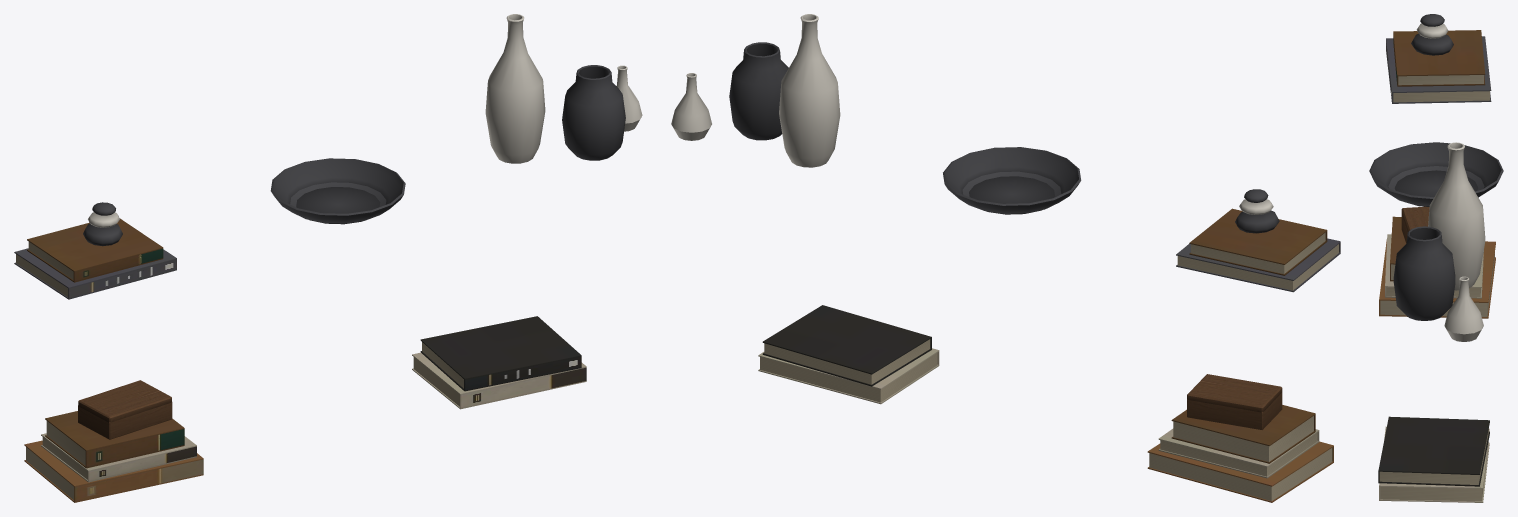
The model's file is decor_a_console_b.gltf.
3 renders of one model, left to right at view 1: azimuth 30°, elevation 25°; view 2: azimuth 150°, elevation 25°; view 3: azimuth 270°, elevation 25°, orthographic. The views are drawn at different scales.
Visible parts, largest first — view 1: DecorAConsoleB_Book07_Spines_NoCollide, DecorAConsoleB_Bowl01_Charcoal_NoCollide, DecorAConsoleB_Vase01_Glaze_NoCollide, DecorAConsoleB_Vase02_Charcoal_NoCollide, DecorAConsoleB_Book02_Spines_NoCollide, DecorAConsoleB_Book05_Spines_NoCollide, DecorAConsoleB_Book03_Spines_NoCollide, DecorAConsoleB_Box01_Walnut_NoCollide, DecorAConsoleB_Book06_Spines_NoCollide, DecorAConsoleB_Book01_Spines_NoCollide, DecorAConsoleB_Book04_Spines_NoCollide, DecorAConsoleB_Ornament01_Charcoal_NoCollide (+1 smaller); view 2: DecorAConsoleB_Book07_Spines_NoCollide, DecorAConsoleB_Bowl01_Charcoal_NoCollide, DecorAConsoleB_Vase01_Glaze_NoCollide, DecorAConsoleB_Book02_Spines_NoCollide, DecorAConsoleB_Book03_Spines_NoCollide, DecorAConsoleB_Book05_Spines_NoCollide, DecorAConsoleB_Vase02_Charcoal_NoCollide, DecorAConsoleB_Box01_Walnut_NoCollide, DecorAConsoleB_Book06_Spines_NoCollide, DecorAConsoleB_Book01_Spines_NoCollide, DecorAConsoleB_Book04_Spines_NoCollide, DecorAConsoleB_Vase03_Glaze_NoCollide (+1 smaller); view 3: DecorAConsoleB_Book07_Spines_NoCollide, DecorAConsoleB_Bowl01_Charcoal_NoCollide, DecorAConsoleB_Vase01_Glaze_NoCollide, DecorAConsoleB_Vase02_Charcoal_NoCollide, DecorAConsoleB_Book02_Spines_NoCollide, DecorAConsoleB_Book01_Spines_NoCollide, DecorAConsoleB_Book06_Spines_NoCollide, DecorAConsoleB_Book03_Spines_NoCollide, DecorAConsoleB_Vase03_Glaze_NoCollide, DecorAConsoleB_Ornament01_Charcoal_NoCollide, DecorAConsoleB_Book04_Spines_NoCollide, DecorAConsoleB_Box01_Walnut_NoCollide (+2 smaller).
Part boxes in pixels (<box>): DecorAConsoleB_Book07_Spines_NoCollide: <box>420,316,581,391</box>; DecorAConsoleB_Bowl01_Charcoal_NoCollide: <box>270,158,405,224</box>; DecorAConsoleB_Vase01_Glaze_NoCollide: <box>485,14,545,163</box>; DecorAConsoleB_Vase02_Charcoal_NoCollide: <box>562,65,625,160</box>; DecorAConsoleB_Book02_Spines_NoCollide: <box>27,218,163,282</box>; DecorAConsoleB_Book05_Spines_NoCollide: <box>45,411,184,468</box>; DecorAConsoleB_Book03_Spines_NoCollide: <box>24,440,203,502</box>; DecorAConsoleB_Box01_Walnut_NoCollide: <box>78,380,172,439</box>; DecorAConsoleB_Book06_Spines_NoCollide: <box>412,352,586,409</box>; DecorAConsoleB_Book01_Spines_NoCollide: <box>14,248,176,299</box>; DecorAConsoleB_Book04_Spines_NoCollide: <box>41,433,196,482</box>; DecorAConsoleB_Ornament01_Charcoal_NoCollide: <box>83,202,122,246</box>; DecorAConsoleB_Book07_Spines_NoCollide: <box>762,305,931,386</box>; DecorAConsoleB_Bowl01_Charcoal_NoCollide: <box>943,147,1081,214</box>; DecorAConsoleB_Vase01_Glaze_NoCollide: <box>779,14,840,167</box>; DecorAConsoleB_Book02_Spines_NoCollide: <box>1189,208,1327,275</box>; DecorAConsoleB_Book03_Spines_NoCollide: <box>1147,441,1333,502</box>; DecorAConsoleB_Book05_Spines_NoCollide: <box>1171,405,1315,463</box>; DecorAConsoleB_Vase02_Charcoal_NoCollide: <box>729,42,788,140</box>; DecorAConsoleB_Box01_Walnut_NoCollide: <box>1187,374,1282,429</box>; DecorAConsoleB_Book06_Spines_NoCollide: <box>758,348,939,404</box>; DecorAConsoleB_Book01_Spines_NoCollide: <box>1176,238,1340,292</box>; DecorAConsoleB_Book04_Spines_NoCollide: <box>1158,428,1319,478</box>; DecorAConsoleB_Vase03_Glaze_NoCollide: <box>671,73,711,140</box>; DecorAConsoleB_Book07_Spines_NoCollide: <box>1378,416,1489,486</box>; DecorAConsoleB_Bowl01_Charcoal_NoCollide: <box>1369,142,1503,206</box>; DecorAConsoleB_Vase01_Glaze_NoCollide: <box>1428,142,1485,290</box>; DecorAConsoleB_Vase02_Charcoal_NoCollide: <box>1393,226,1455,320</box>; DecorAConsoleB_Book02_Spines_NoCollide: <box>1393,30,1485,86</box>; DecorAConsoleB_Book01_Spines_NoCollide: <box>1386,36,1491,103</box>; DecorAConsoleB_Book06_Spines_NoCollide: <box>1379,426,1489,502</box>; DecorAConsoleB_Book03_Spines_NoCollide: <box>1379,239,1495,318</box>; DecorAConsoleB_Vase03_Glaze_NoCollide: <box>1444,276,1483,341</box>; DecorAConsoleB_Ornament01_Charcoal_NoCollide: <box>1411,14,1453,55</box>; DecorAConsoleB_Book04_Spines_NoCollide: <box>1385,234,1483,298</box>; DecorAConsoleB_Box01_Walnut_NoCollide: <box>1401,206,1429,243</box>.
Size of the model in its own units: 1.77 by 0.9471 by 0.34.
5 materials, 2 textured.
